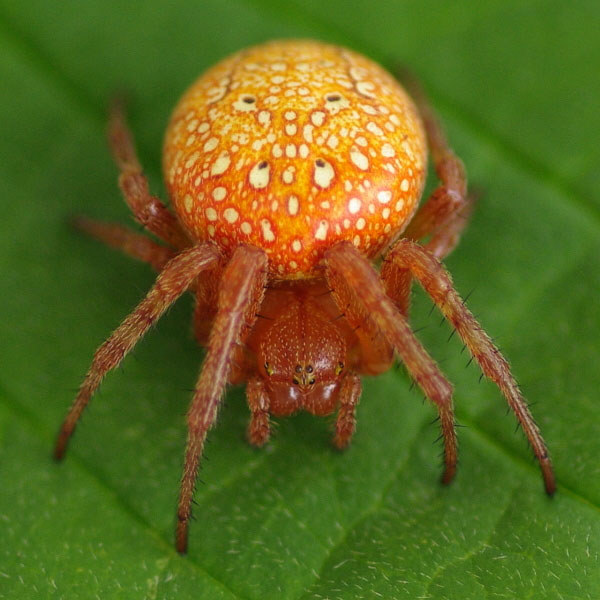spider: (35, 18, 573, 551)
